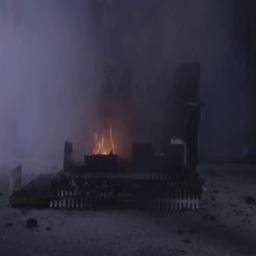fire: (80, 119, 133, 179)
smoke: (0, 2, 254, 114)
